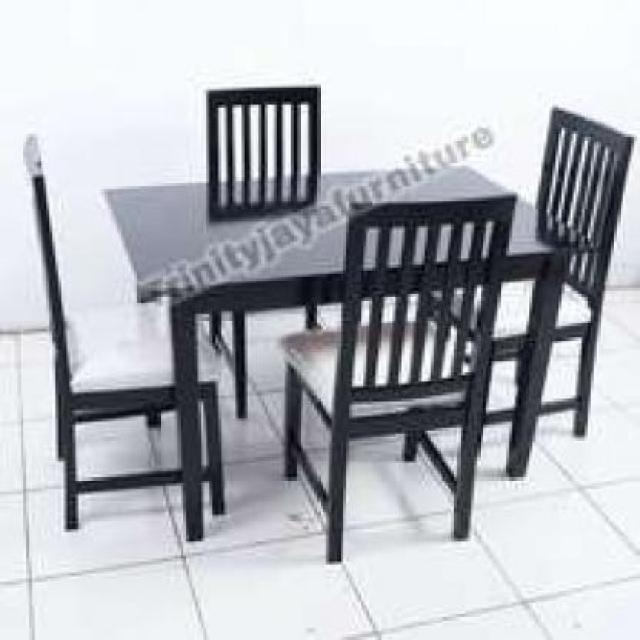tables: (98, 163, 571, 542)
